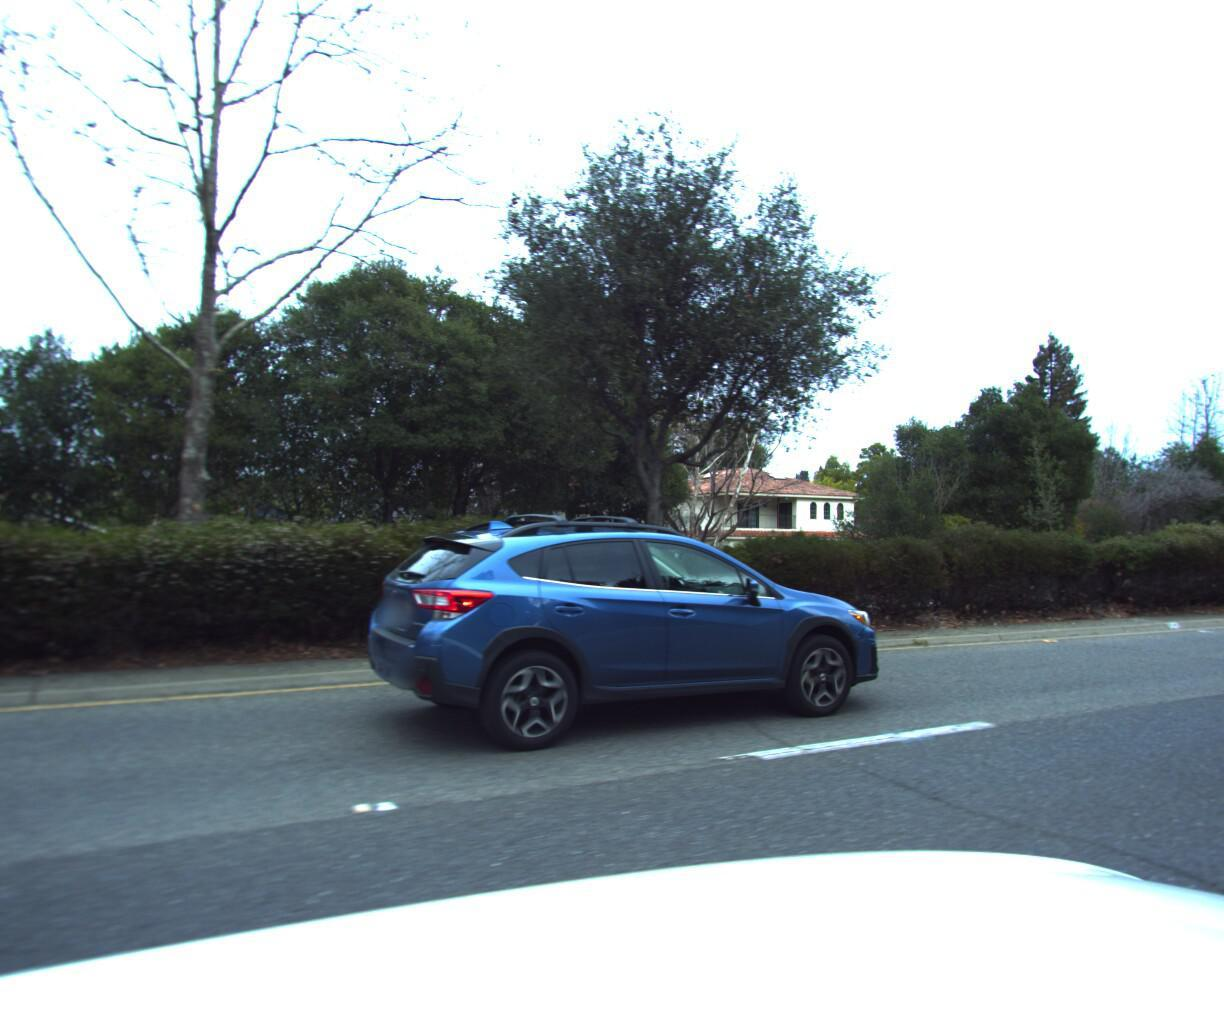car: (353, 520, 890, 769)
